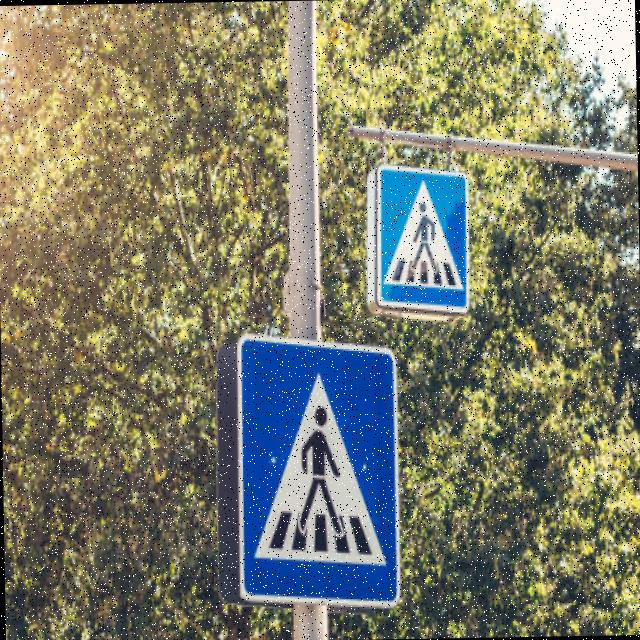crosswalk: (232, 332, 408, 606), (362, 159, 476, 318)
